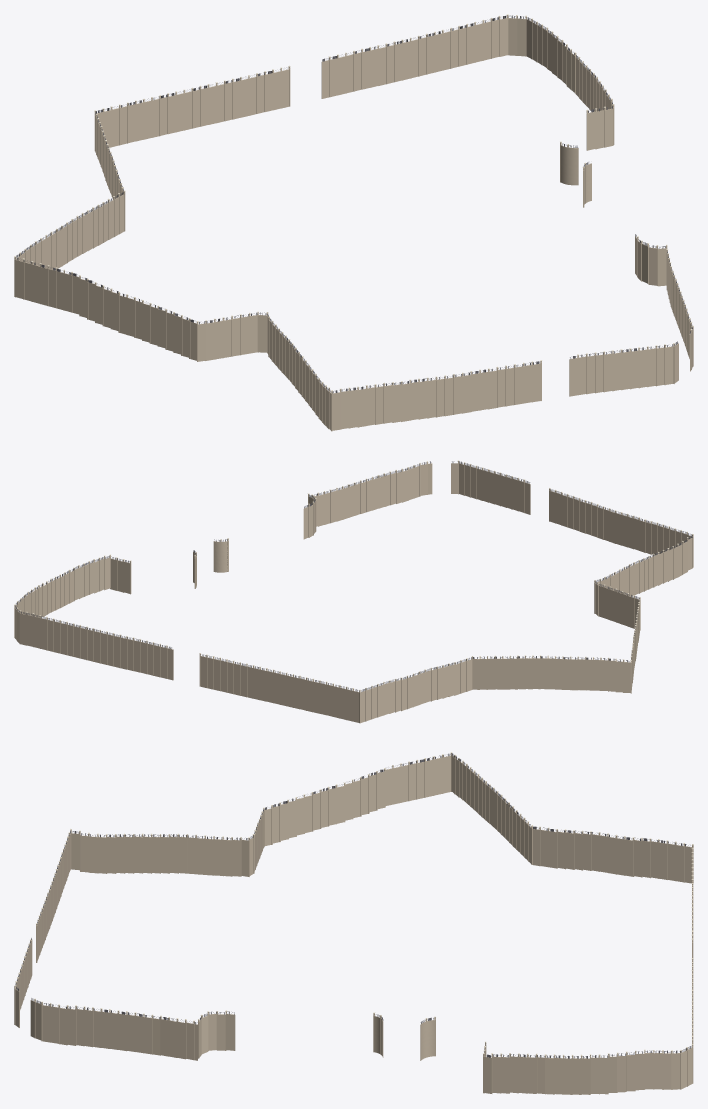
The model's file is Fence.glb.
3 renders of one model, top to bottom at view 1: azimuth 30°, elevation 25°; view 2: azimuth 150°, elevation 25°; view 3: azimuth 270°, elevation 25°, orthographic. The views are drawn at different scales.
Bounding box in the file's own units: 4236 × 476 × 4049.
